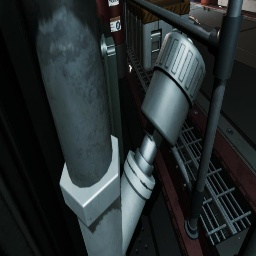NitrogenTank ,: (108, 0, 127, 80), (96, 0, 111, 33)
